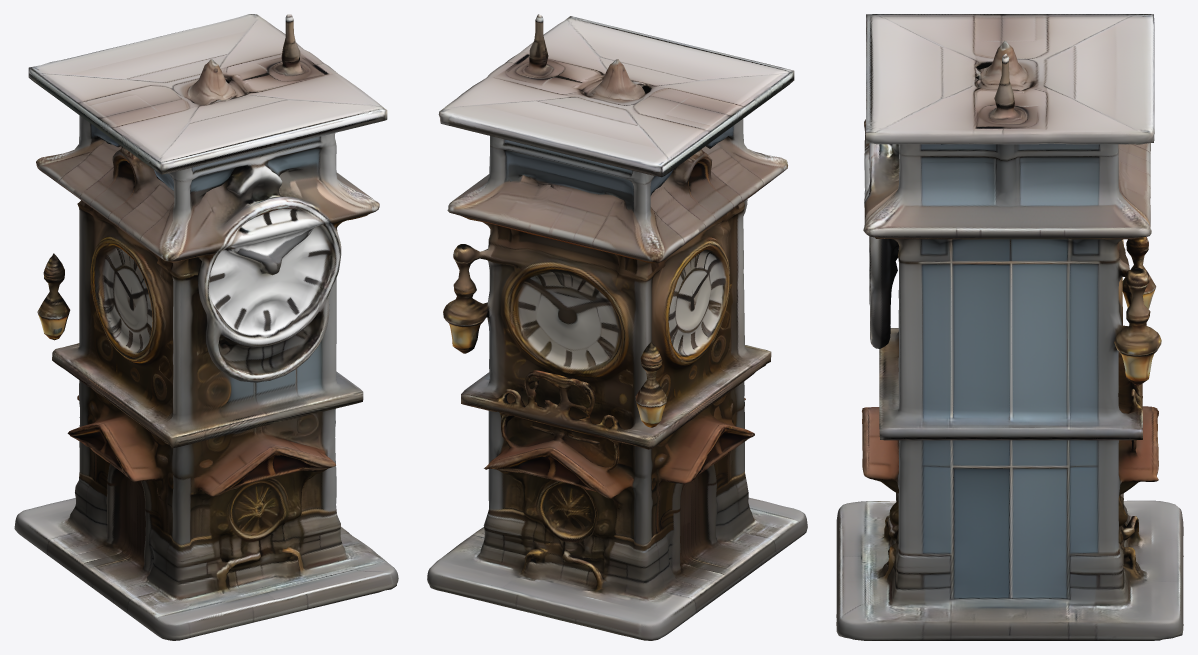
File: base_basic_pbr.fbx
3 renders of one model, left to right at view 1: azimuth 30°, elevation 25°; view 2: azimuth 150°, elevation 25°; view 3: azimuth 270°, elevation 25°, orthographic. The views are drawn at different scales.
Parts seen in each view (by area): view 1: model; view 2: model; view 3: model.
Part boxes in pixels (x1,y1,x2,y2): model: [14, 14, 398, 640]; model: [427, 14, 807, 640]; model: [836, 14, 1183, 640].
Bounding box in the file's own units: 82.96 × 175 × 96.69.
1 material, 1 textured.
